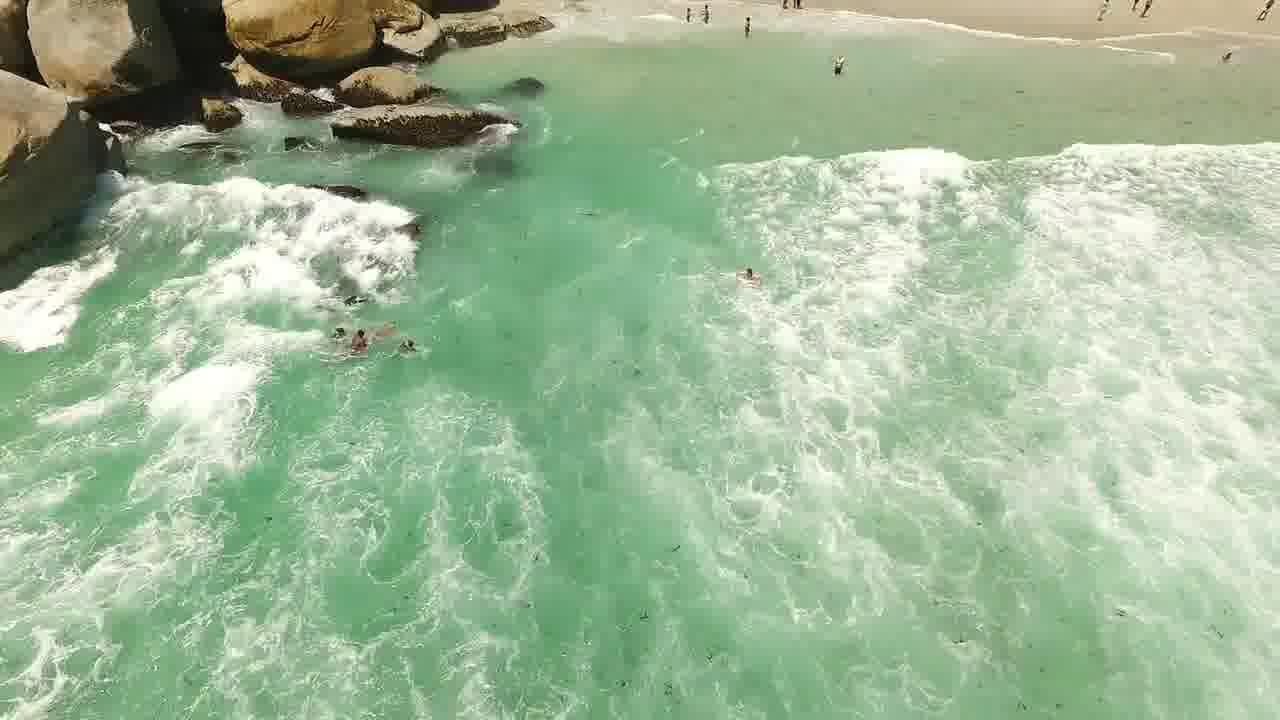swimmer: (716, 252, 766, 290), (353, 296, 377, 367), (398, 315, 425, 366), (825, 38, 852, 88), (727, 11, 759, 41), (331, 310, 345, 349), (1213, 50, 1242, 67), (672, 4, 691, 24)
